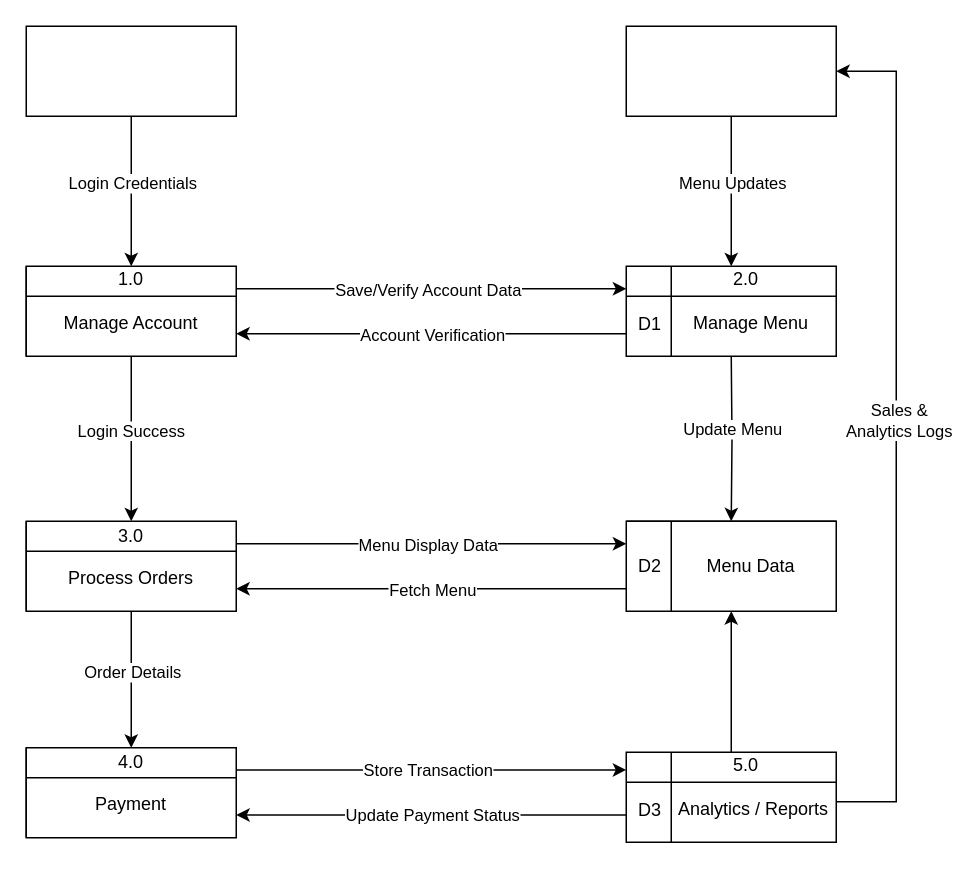
This 978x869 diagram has some shape labels left out. The centre of each missing label's shape, as x and y in pixels:
Administrator: point 730,70
Customer: point 130,70
